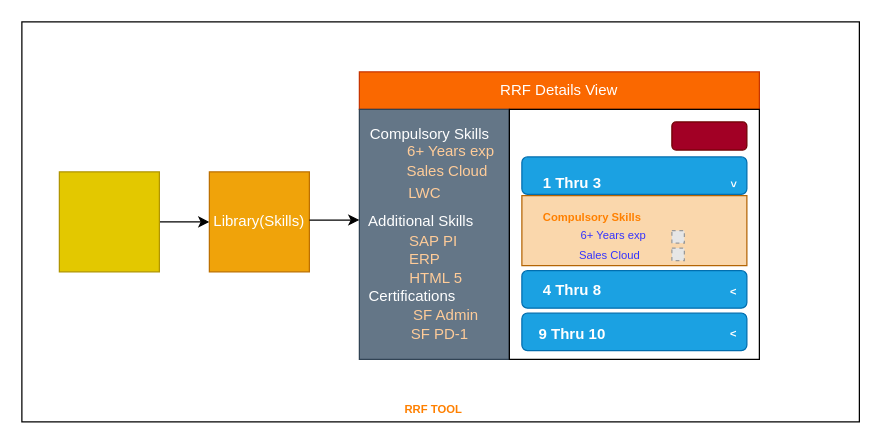
The diagram is 881 pixels wide and 444 high, and some of its shapes have lost their labels. Grey dashed boxes stand in for pictures. The shapes that lost their labels are listed below. From the top down, each one's centre as x and y in pixels, then its label:
the point at 709,135: Add Segment
the point at 108,221: RRF Details
